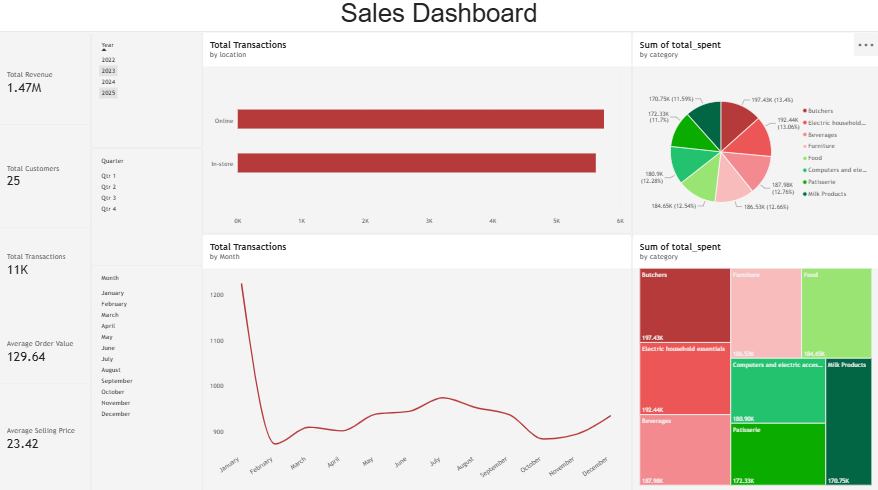

Layout of this report page (visuals, bound fields, positions):
{"tool":"powerbi","page":{"name":"Page 1","canvas":[1920,1080],"ordinal":0},"visuals":[{"type":"cardVisual","fields":{"Data":["fact_sales.Total Revenue"]},"box":[0,75,200,220],"z":0},{"type":"pieChart","fields":{"Category":["dim_item.category"],"Y":["Sum(fact_sales.total_spent)"]},"box":[1380,75,540,465],"z":1000},{"type":"treemap","fields":{"Group":["dim_item.category"],"Values":["Sum(fact_sales.total_spent)"]},"box":[1380,515,540,565],"z":2000},{"type":"barChart","fields":{"Category":["dim_location.location"],"Y":["fact_sales.Total Transactions"]},"box":[442.5,75,937.5,440],"z":3000},{"type":"tableEx","fields":{"Values":["fact_sales.transaction_date.Variation.Date Hierarchy.Year"]},"box":[200,75,242.5,252.5],"z":4000},{"type":"tableEx","fields":{"Values":["fact_sales.transaction_date.Variation.Date Hierarchy.Quarter"]},"box":[200,327.5,242.5,272.5],"z":4001},{"type":"tableEx","fields":{"Values":["fact_sales.transaction_date.Variation.Date Hierarchy.Month"]},"box":[200,582.5,242.5,497.5],"z":4002},{"type":"cardVisual","fields":{"Data":["fact_sales.Average Order Value"]},"box":[0,655,200,232.5],"z":4003},{"type":"cardVisual","fields":{"Data":["fact_sales.Total Transactions"]},"box":[0,470,200,225],"z":4004},{"type":"cardVisual","fields":{"Data":["fact_sales.Total Customers"]},"box":[0,275,200,227.5],"z":4005},{"type":"lineChart","fields":{"Category":["fact_sales.transaction_date.Variation.Date Hierarchy.Month"],"Y":["fact_sales.Total Transactions"]},"box":[442.5,515,937.5,565],"z":4006},{"type":"cardVisual","fields":{"Data":["fact_sales.Average Selling Price"]},"box":[0,840,200,240],"z":4007},{"type":"textbox","box":[0,0,1920,75],"z":4008}]}

Visuals, with their boxes in screenshot pixels (x1, y1, x2, y2), scaled from the page's 1920x1080 canvas onto the 878x490 screenshot:
cardVisual - fact_sales.Total Revenue: crop(0, 34, 91, 134)
pieChart - dim_item.category x Sum(fact_sales.total_spent): crop(631, 34, 877, 245)
treemap - dim_item.category x Sum(fact_sales.total_spent): crop(631, 234, 877, 489)
barChart - dim_location.location x fact_sales.Total Transactions: crop(202, 34, 631, 234)
tableEx - fact_sales.transaction_date.Variation.Date Hierarchy.Year: crop(91, 34, 202, 149)
tableEx - fact_sales.transaction_date.Variation.Date Hierarchy.Quarter: crop(91, 149, 202, 272)
tableEx - fact_sales.transaction_date.Variation.Date Hierarchy.Month: crop(91, 264, 202, 489)
cardVisual - fact_sales.Average Order Value: crop(0, 297, 91, 403)
cardVisual - fact_sales.Total Transactions: crop(0, 213, 91, 315)
cardVisual - fact_sales.Total Customers: crop(0, 125, 91, 228)
lineChart - fact_sales.transaction_date.Variation.Date Hierarchy.Month x fact_sales.Total Transactions: crop(202, 234, 631, 489)
cardVisual - fact_sales.Average Selling Price: crop(0, 381, 91, 489)
textbox: crop(0, 0, 877, 34)
